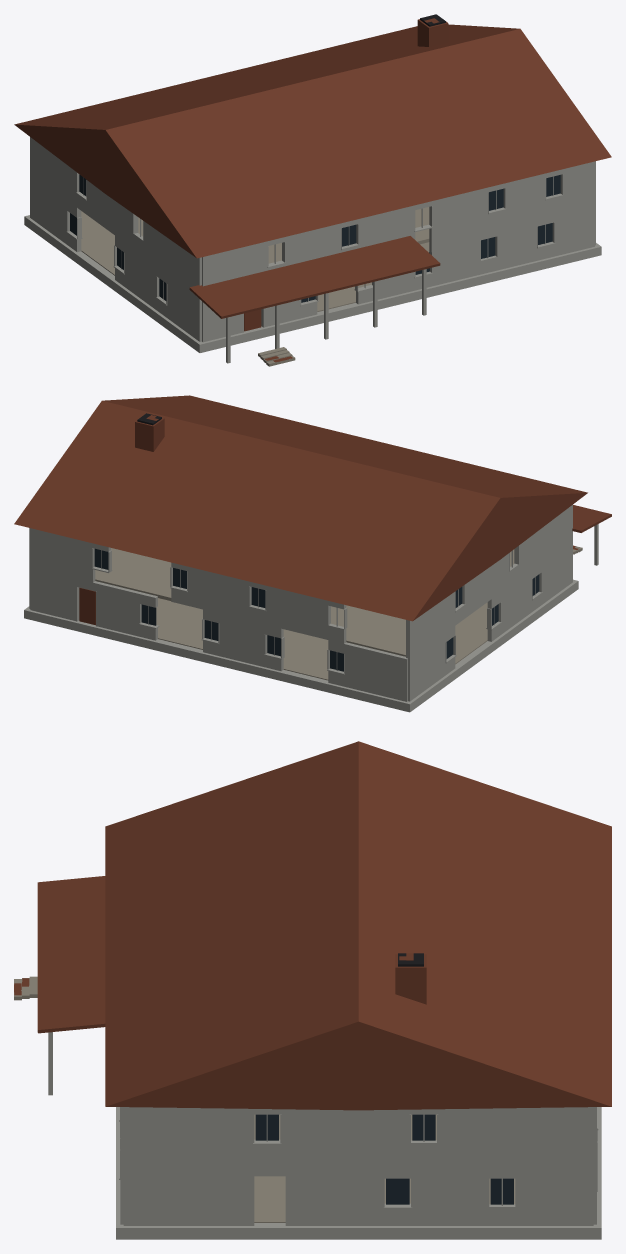
Rendered from FM_Farmhouse_Damaged_01.glb.
3 renders of one model, top to bottom at view 1: azimuth 30°, elevation 25°; view 2: azimuth 150°, elevation 25°; view 3: azimuth 270°, elevation 25°, orthographic. The views are drawn at different scales.
Visible parts, largest first — view 1: FM_Farmhouse_Damaged_01; view 2: FM_Farmhouse_Damaged_01; view 3: FM_Farmhouse_Damaged_01.
Boxes of the visible parts, x1=… form: FM_Farmhouse_Damaged_01: x1=14, y1=14, x2=611, y2=366; FM_Farmhouse_Damaged_01: x1=14, y1=395, x2=611, y2=712; FM_Farmhouse_Damaged_01: x1=14, y1=741, x2=611, y2=1239.
Bounding box in the file's own units: 25.4 × 10.1 × 22.9.
Materials: 1 (1 with a texture image).
